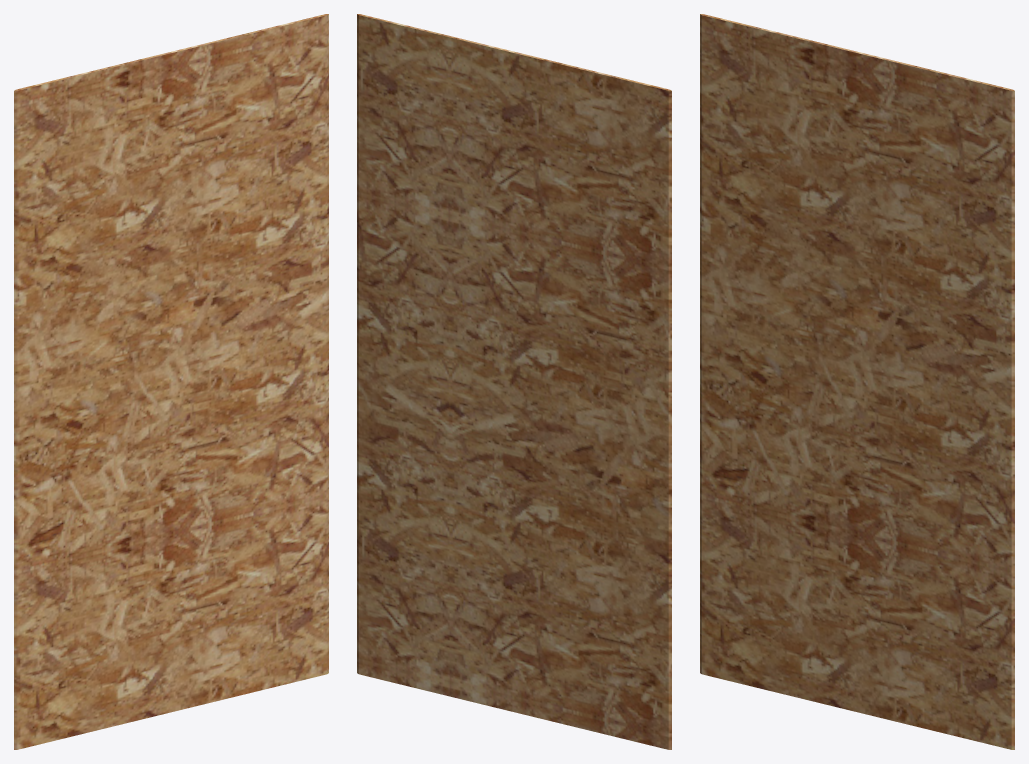
The model's file is nist_maze_wall_240.dae.
3 renders of one model, left to right at view 1: azimuth 30°, elevation 25°; view 2: azimuth 150°, elevation 25°; view 3: azimuth 330°, elevation 25°, orthographic.
Visible parts, largest first — view 1: Plane; view 2: Plane; view 3: Plane.
Part boxes in pixels (x1,y1,x2,y2): Plane: (14, 14, 328, 749); Plane: (357, 14, 671, 749); Plane: (700, 14, 1014, 749).
Bounding box in the file's own units: 1.2 × 0.01 × 2.4.
1 material, 1 textured.
